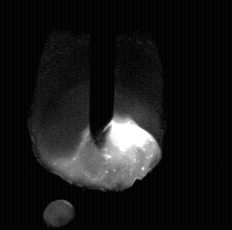arame: (89, 0, 116, 149)
poca: (28, 0, 164, 230)
